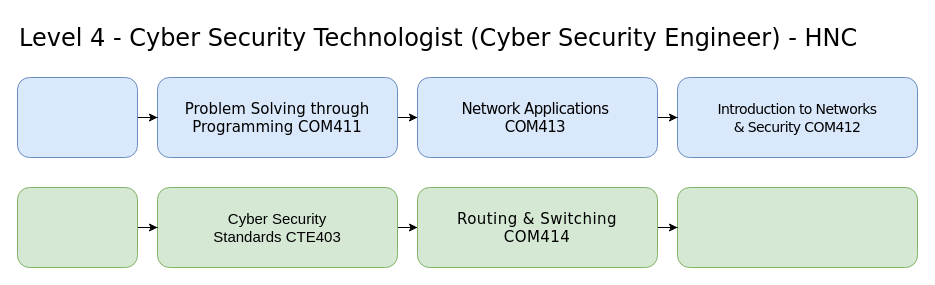
This 935x285 diagram has some shape labels left out. Here are the shapes that lost their labels. From the top down, the centre of each, then its label:
At point 77,117: "Semester 1".
At point 77,227: "Semester 2".
At point 797,227: "Cyber Security Essentials COM415".
